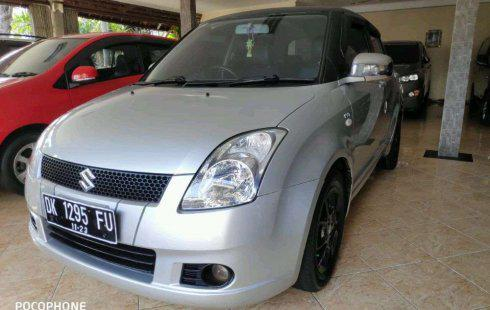plate: (43, 194, 116, 245)
